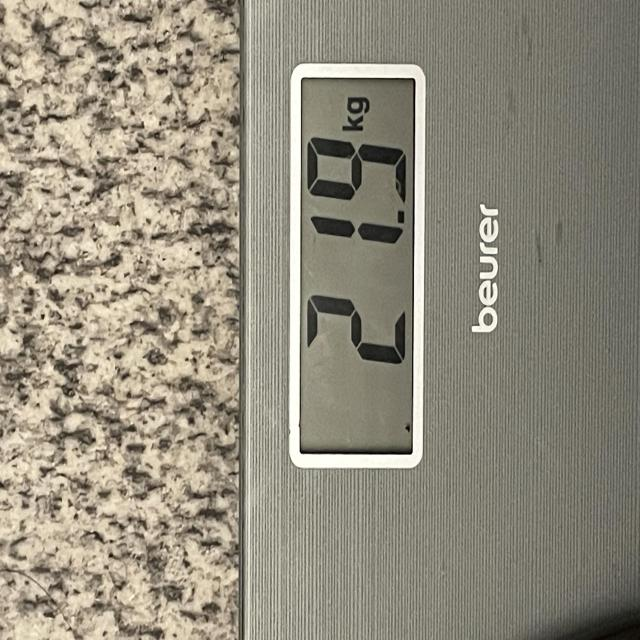ws: (235, 0, 640, 640)
